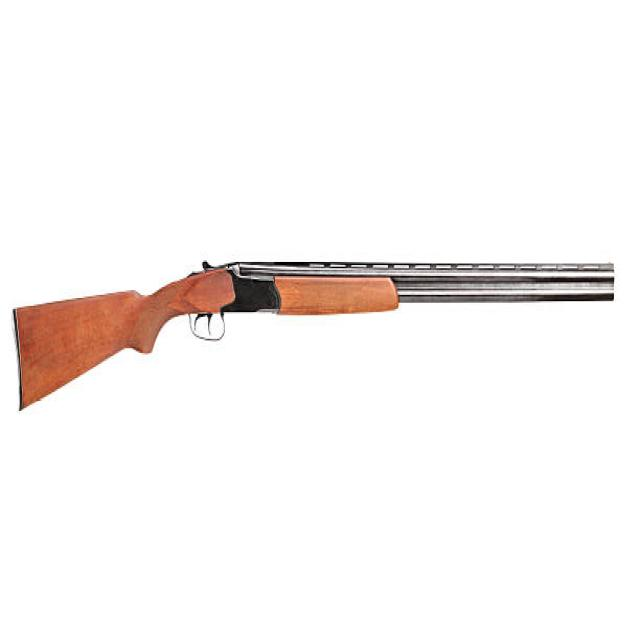rifle: (11, 247, 623, 417)
